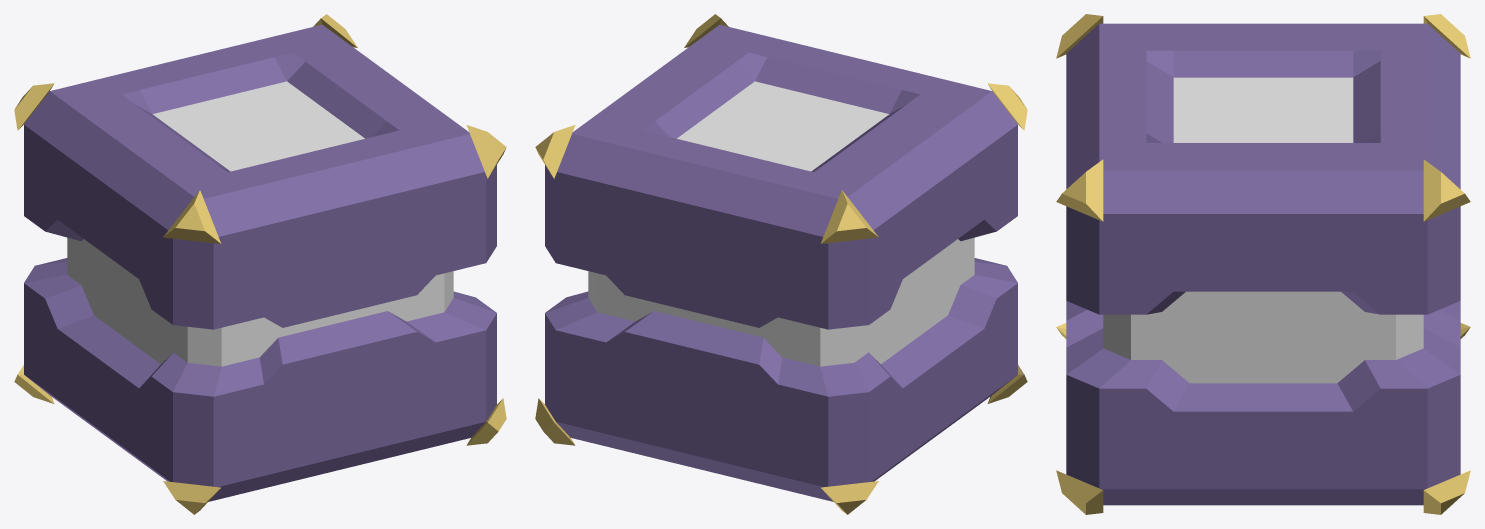
The picture shows the model from 3 angles, left to right: view 1: azimuth 30°, elevation 25°; view 2: azimuth 150°, elevation 25°; view 3: azimuth 270°, elevation 25°; orthographic projection. The views are drawn at different scales.
Parts seen in each view (by area): view 1: Cube; view 2: Cube; view 3: Cube.
Boxes of the visible parts, x1,y1,x2,y2 form: Cube: [14, 14, 506, 514]; Cube: [535, 14, 1027, 514]; Cube: [1056, 14, 1470, 514].
Size of the model in its own units: 1.5 by 1.35 by 1.43.
